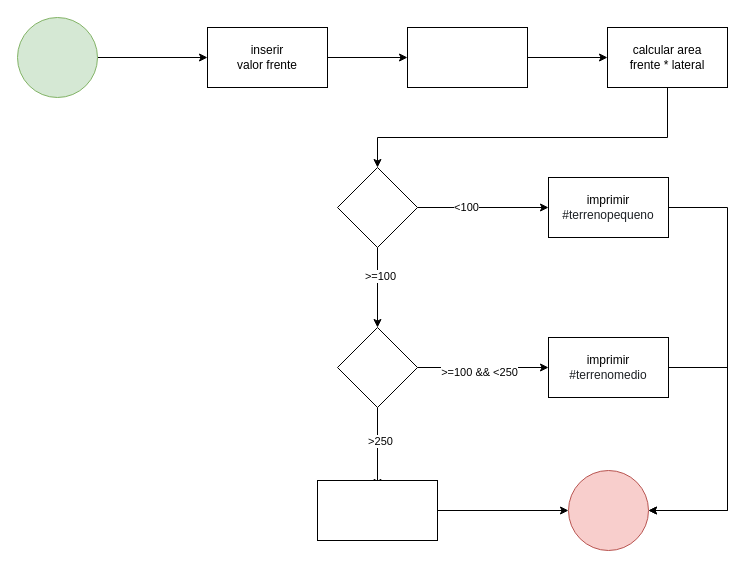
This 753x568 diagram has some shape labels left out. The shapes that lost their labels are listed below. From the top down, each one's box as (x1, y1, x2, y2) in pixels, then its label:
(406, 26, 528, 88): inserir valor lateral
(316, 480, 438, 540): imprimir #terrenogrande
